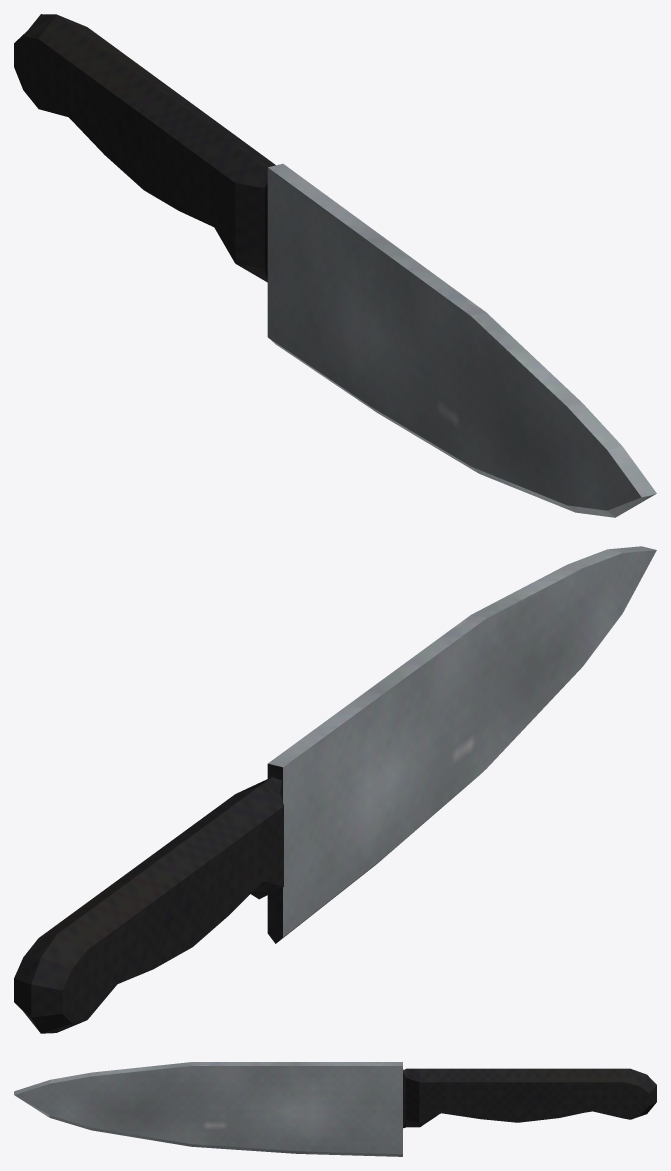
Rendered from KitchenKnife.fbx.
3 views of the same model, one above another, from view 1: azimuth 30°, elevation 25°; view 2: azimuth 150°, elevation 25°; view 3: azimuth 270°, elevation 25° (orthographic). The views are drawn at different scales.
Visible parts, largest first — view 1: KitchenKnife; view 2: KitchenKnife; view 3: KitchenKnife.
Boxes of the visible parts, box(x1,y1,x2,y2) form: KitchenKnife: box(14, 14, 656, 517); KitchenKnife: box(14, 546, 656, 1033); KitchenKnife: box(14, 1062, 656, 1156).
Bounding box in the file's own units: 0.0251 × 0.0876 × 0.5492.
Materials: 2 (2 with a texture image).
